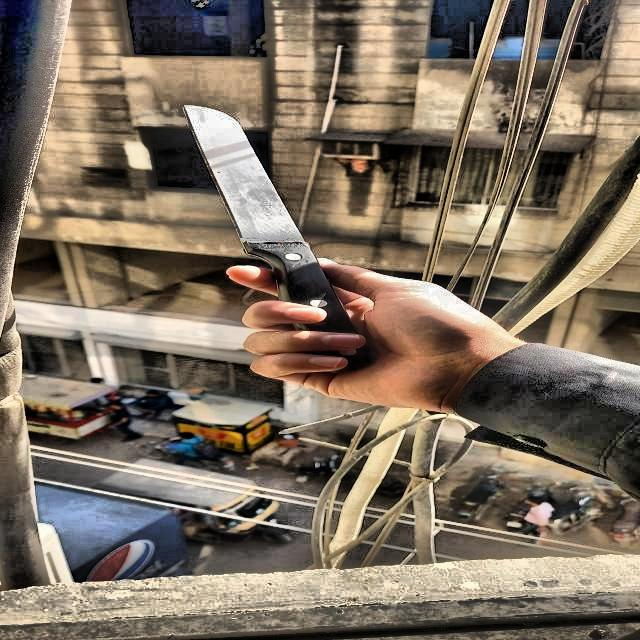knife: (183, 106, 375, 370)
